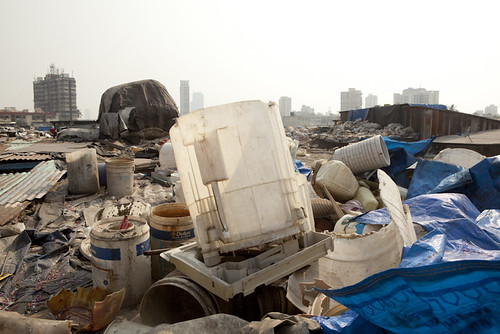building: (31, 70, 86, 117), (179, 78, 203, 123), (394, 87, 438, 106), (338, 83, 368, 109), (281, 94, 294, 117), (367, 91, 380, 107), (480, 105, 496, 114)
sky: (1, 1, 496, 101)
trash: (10, 97, 500, 334)
